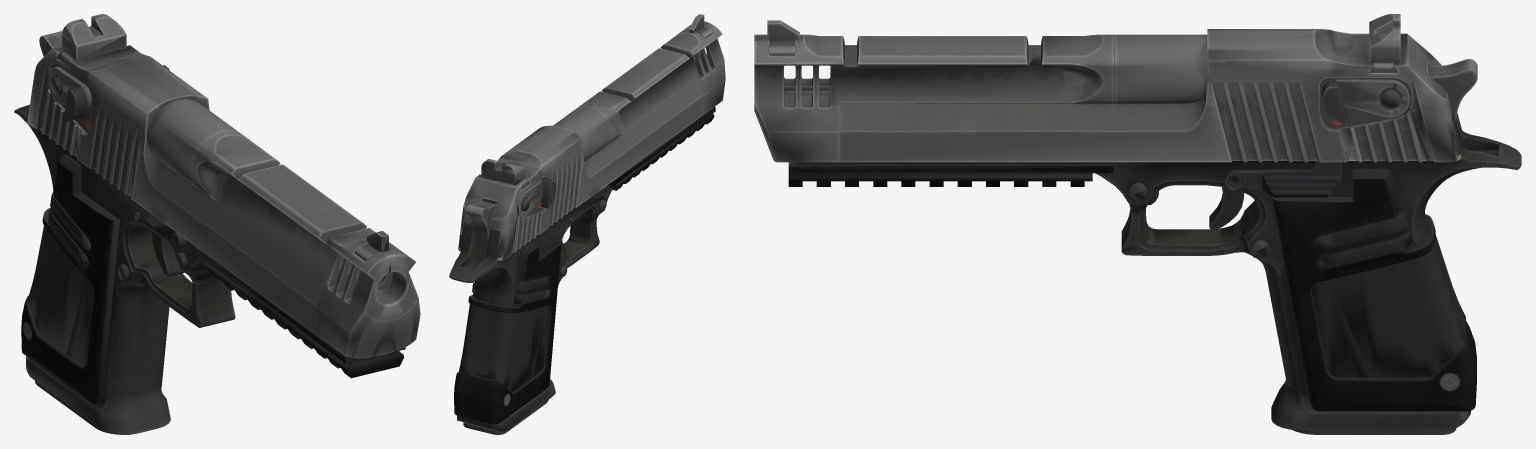
Rendered from h6_heavy.glb.
3 renders of one model, left to right at view 1: azimuth 30°, elevation 25°; view 2: azimuth 150°, elevation 25°; view 3: azimuth 270°, elevation 25°, orthographic. The views are drawn at different scales.
Visible parts, largest first — view 1: body, slide; view 2: body, slide, mag; view 3: body, slide, mag.
Boxes of the visible parts, box(x1,y1,x2,y2) form: body: box(14, 14, 420, 434); slide: box(27, 31, 400, 334); body: box(449, 21, 725, 431); slide: box(458, 14, 712, 261); mag: box(463, 400, 548, 434); body: box(754, 14, 1521, 430); slide: box(767, 20, 1477, 162); mag: box(1292, 428, 1456, 434).
Size of the model in its own units: 0.0416 by 0.1541 by 0.27.
2 materials, 2 textured.
